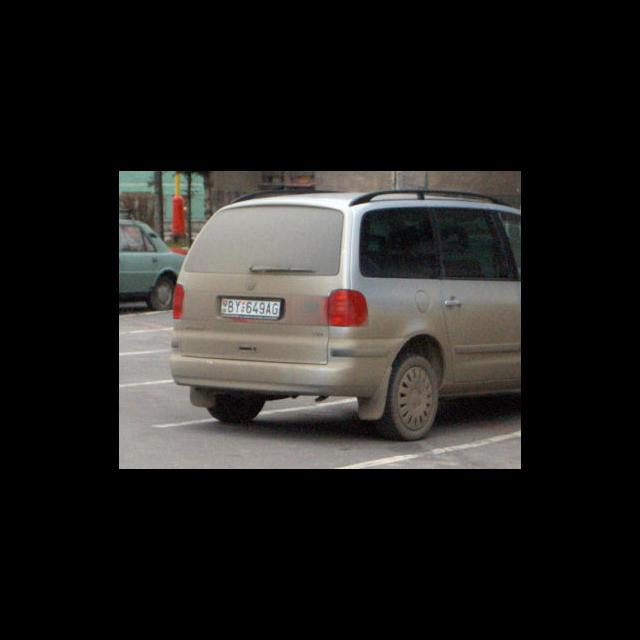Plate: (218, 295, 283, 319)
